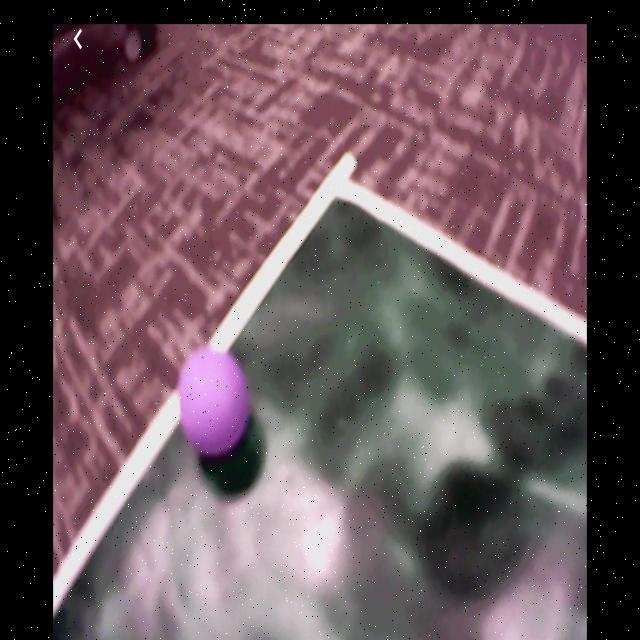ball: (180, 350, 252, 459)
